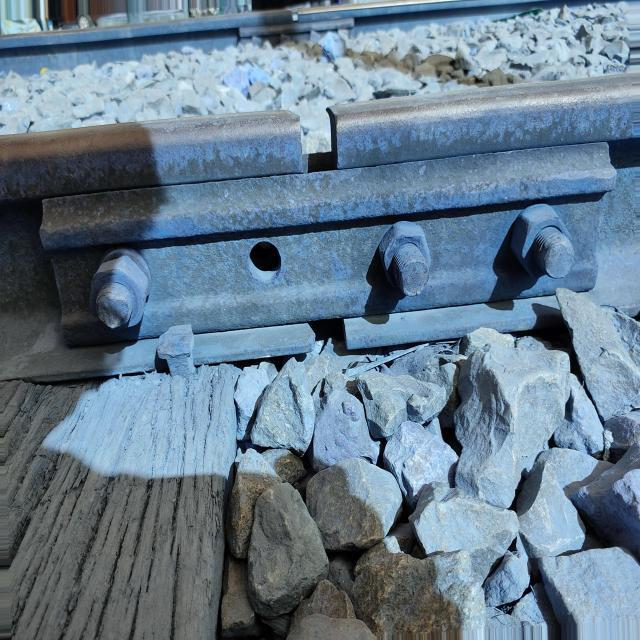Defective Joint: (39, 143, 631, 345)
